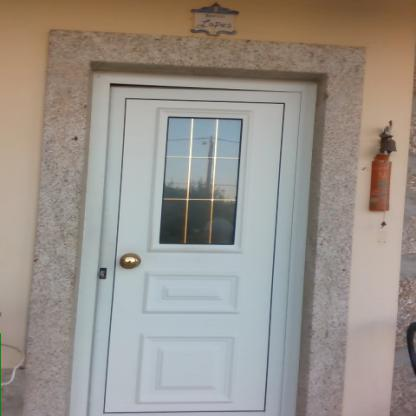door: (109, 84, 272, 415)
knob: (116, 250, 142, 272)
